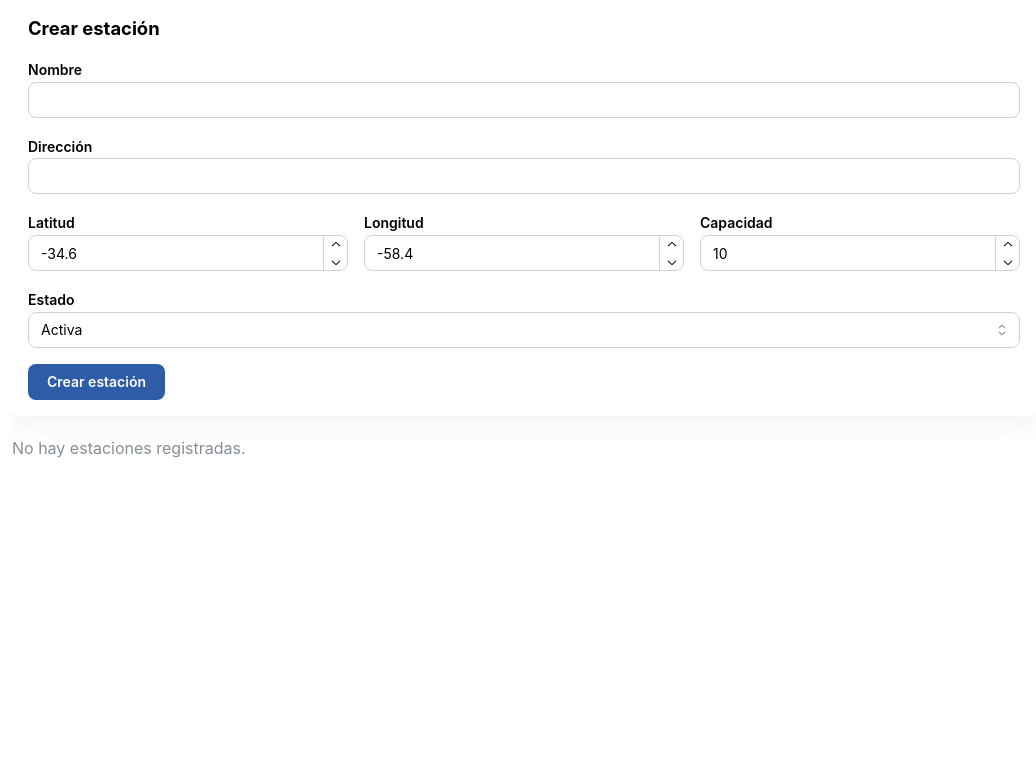
StationManagement › muestra el mensaje adecuado si el alta es rechazada por el backend
This screenshot has width=1036, height=768.
expect the text "No hay estaciones registradas." is shown: met, box [12, 438, 246, 458]
Type "Centro" into the field labelled "Nombre" at (524, 100), box [28, 82, 1020, 118]
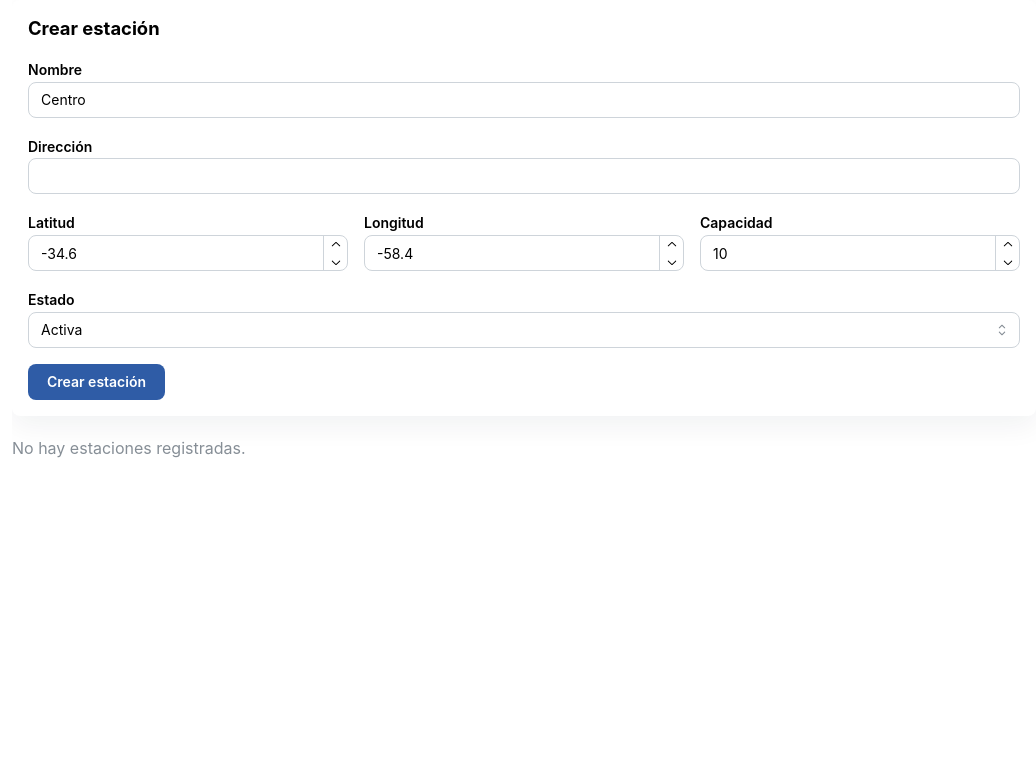
Click the button "Crear estación" at (96, 382), box [28, 364, 165, 400]
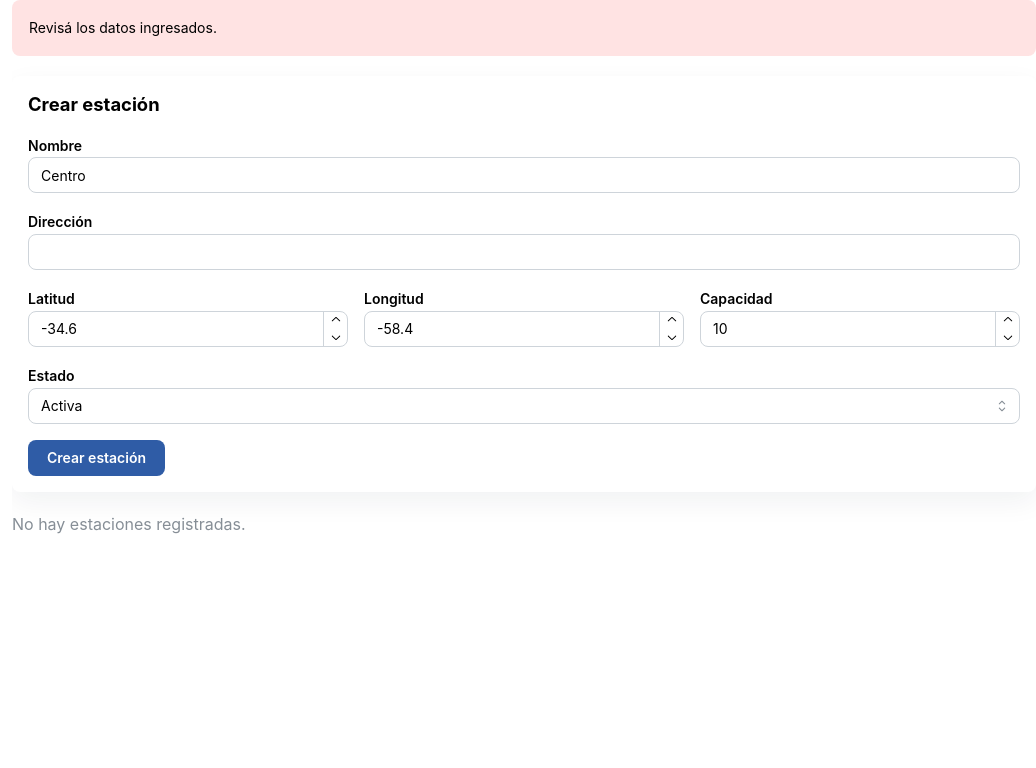
expect the text "Revisá los datos ingresados." is shown: met, box [29, 19, 217, 36]
